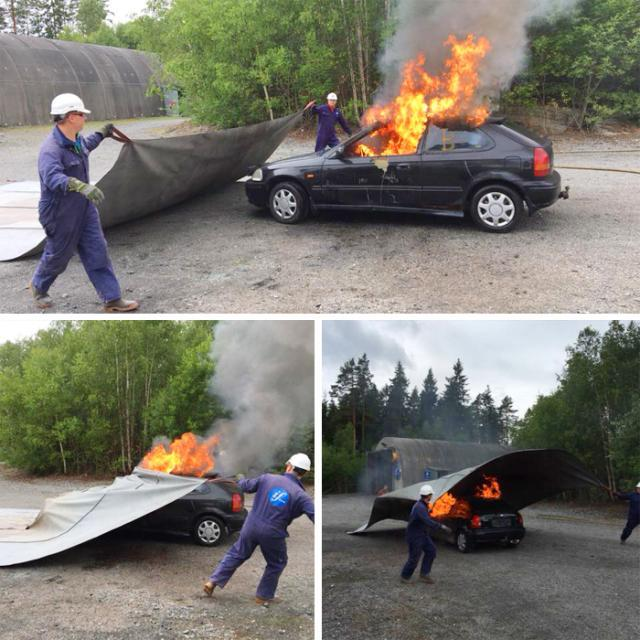Fire: (366, 48, 502, 183), (427, 472, 516, 556), (130, 412, 214, 496)
Smoke: (202, 319, 316, 454), (394, 0, 587, 55)
